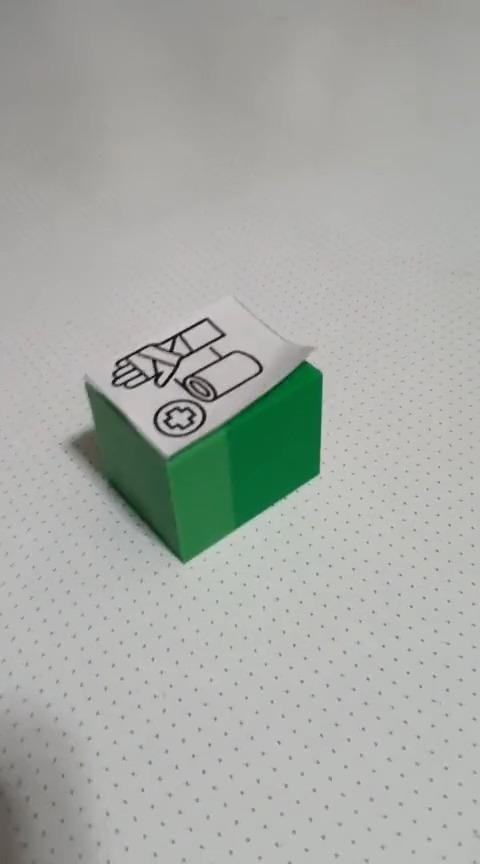Bandages: (82, 292, 323, 563)
